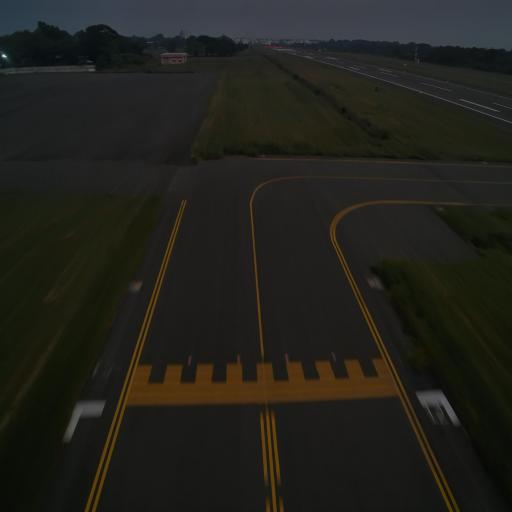on: (328, 348, 339, 369), (283, 348, 293, 370), (184, 352, 194, 372), (233, 351, 243, 368)
